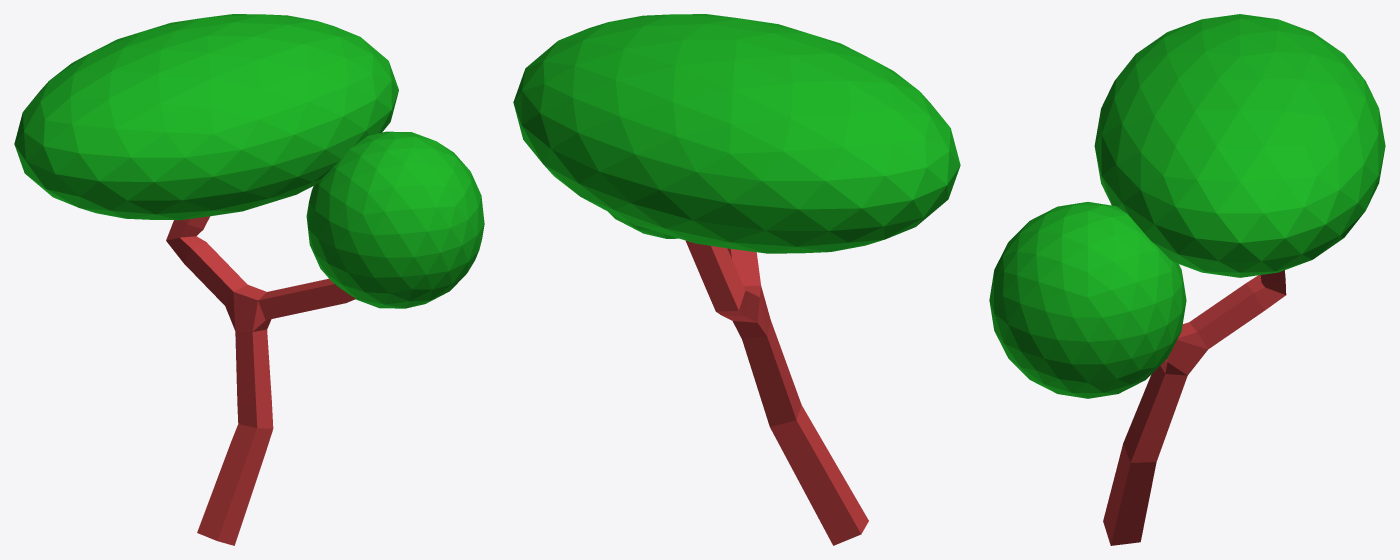
The model's file is Tree.fbx.
3 views of the same model, side by side, from view 1: azimuth 30°, elevation 25°; view 2: azimuth 150°, elevation 25°; view 3: azimuth 270°, elevation 25° (orthographic). The views are drawn at different scales.
Parts seen in each view (by area): view 1: Icosphere.001, Icosphere, Cube; view 2: Icosphere.001, Cube; view 3: Icosphere.001, Icosphere, Cube.
Boxes of the visible parts, x1,y1,x2,y2 form: Icosphere.001: [14, 14, 398, 220]; Icosphere: [306, 131, 484, 308]; Cube: [166, 216, 355, 545]; Icosphere.001: [513, 14, 960, 253]; Cube: [686, 240, 868, 545]; Icosphere.001: [1094, 14, 1385, 277]; Icosphere: [989, 202, 1186, 398]; Cube: [1103, 270, 1286, 545].
Size of the model in its own units: 484 by 562 by 399.
